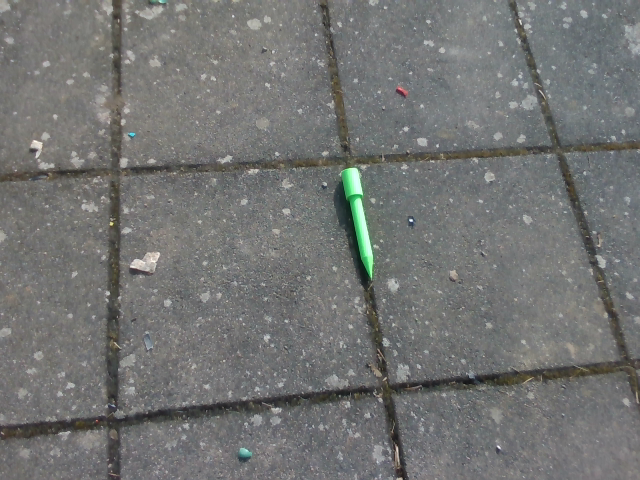Probe: (339, 164, 379, 285)
